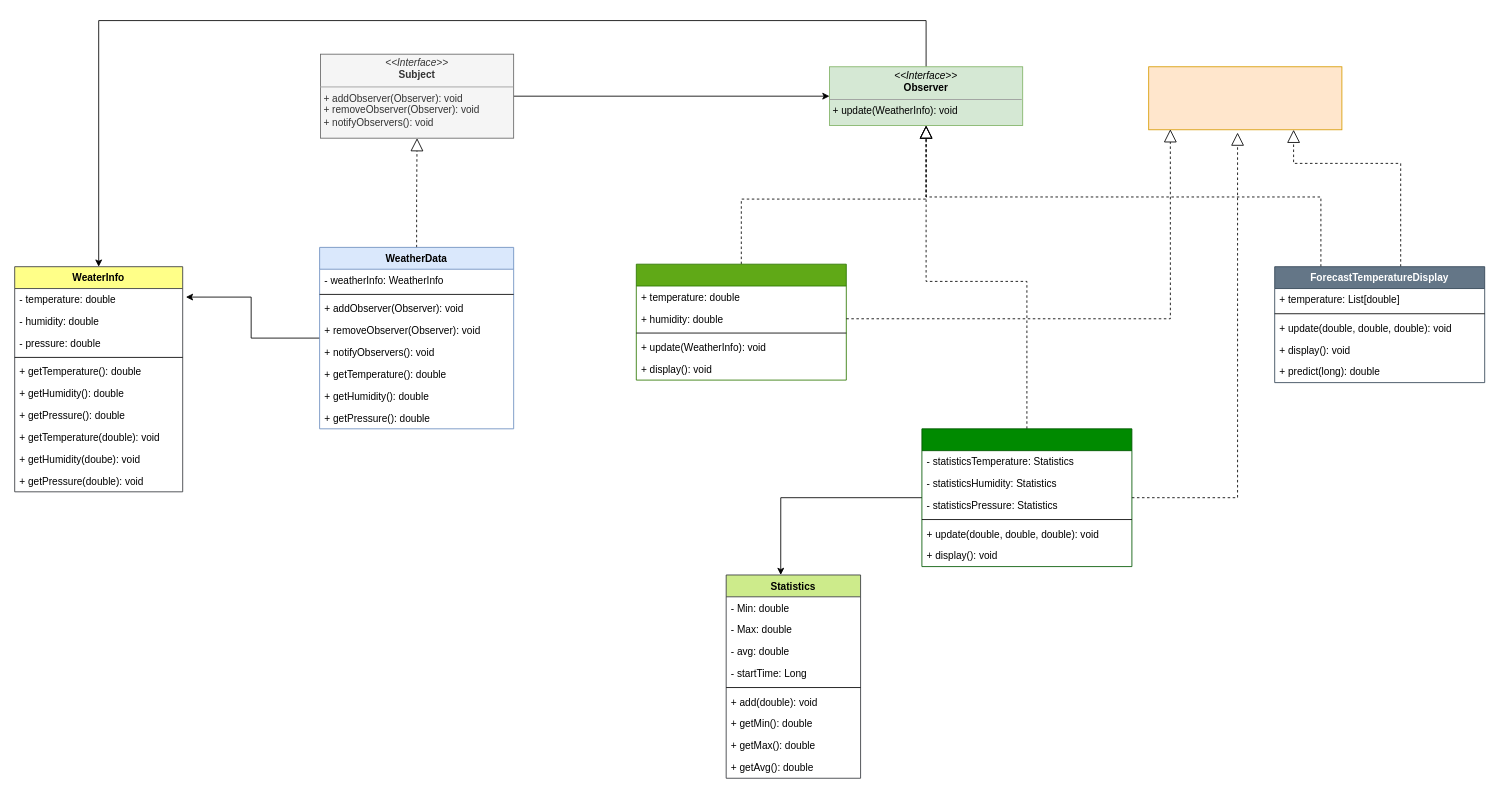
Image size: 1499x795. Some labels were removed from this diagram. Each missing label, with the box of its shape:
<<Interface>> Displayer + display(): (1148, 66, 1342, 130)
CurrentConditionsDisplay: (635, 263, 846, 380)
StatisticsDisplay: (921, 428, 1132, 567)
